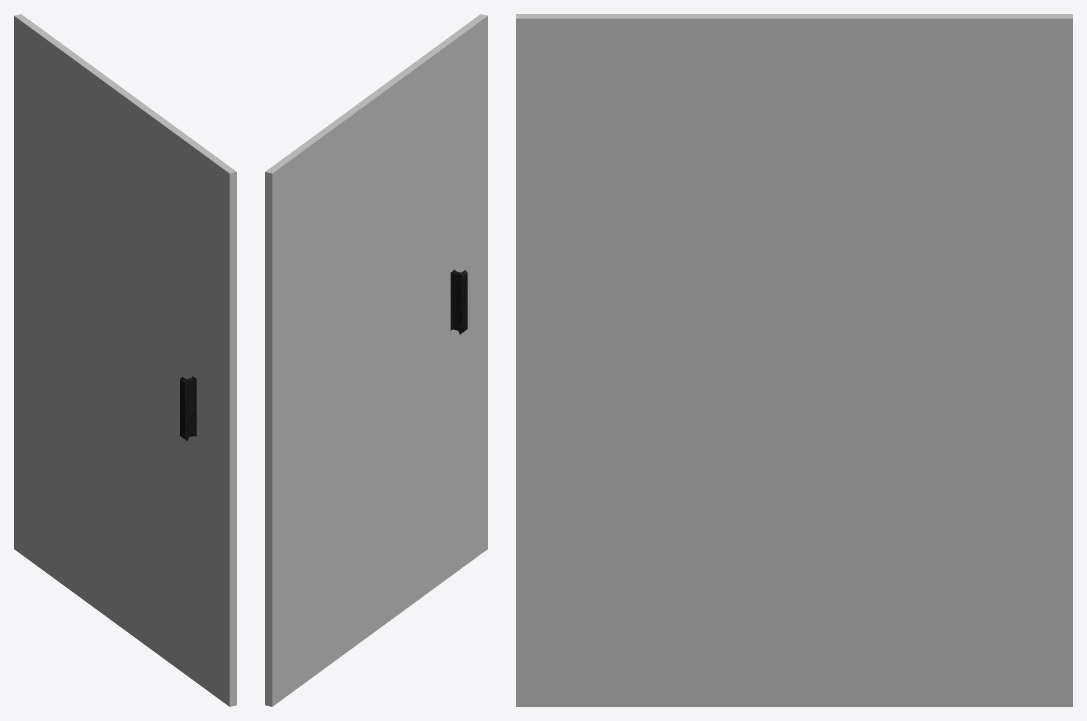
The model's file is keuken2_Right.fbx.
3 renders of one model, left to right at view 1: azimuth 30°, elevation 25°; view 2: azimuth 150°, elevation 25°; view 3: azimuth 270°, elevation 25°, orthographic. The views are drawn at different scales.
Parts seen in each view (by area): view 1: Cube.004; view 2: Cube.004; view 3: Cube.004.
Part boxes in pixels (x1=…): Cube.004: x1=14, y1=14, x2=236, y2=706; Cube.004: x1=265, y1=14, x2=487, y2=706; Cube.004: x1=516, y1=14, x2=1072, y2=706.
Bounding box in the file's own units: 3.05 × 80.15 × 58.75.
